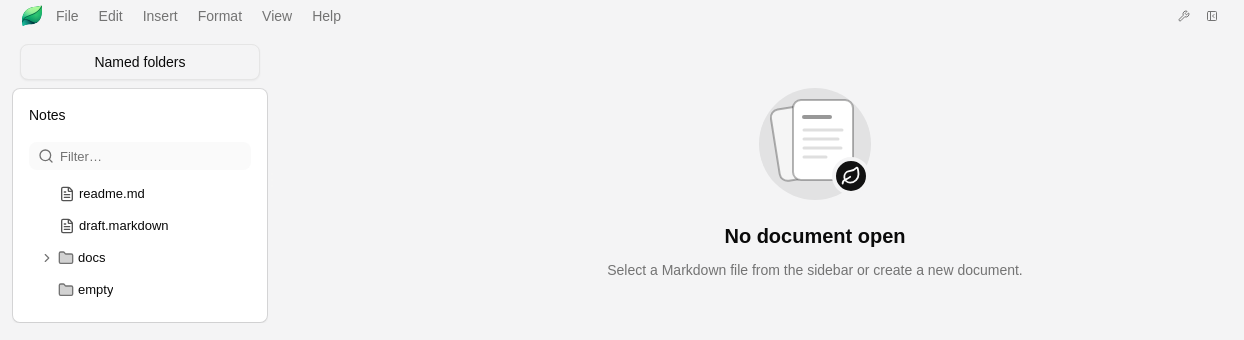
Test: Shell › toggles the sidebar from the titlebar
Click the button named "Hide sidebar" at (1212, 16), box [1200,4,1224,28]
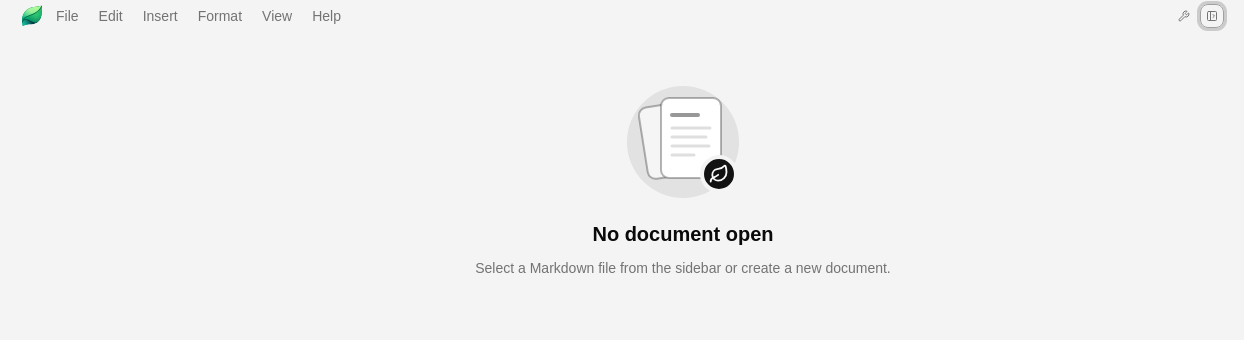
Check: the element with test id "article-navigator-host" is gone
